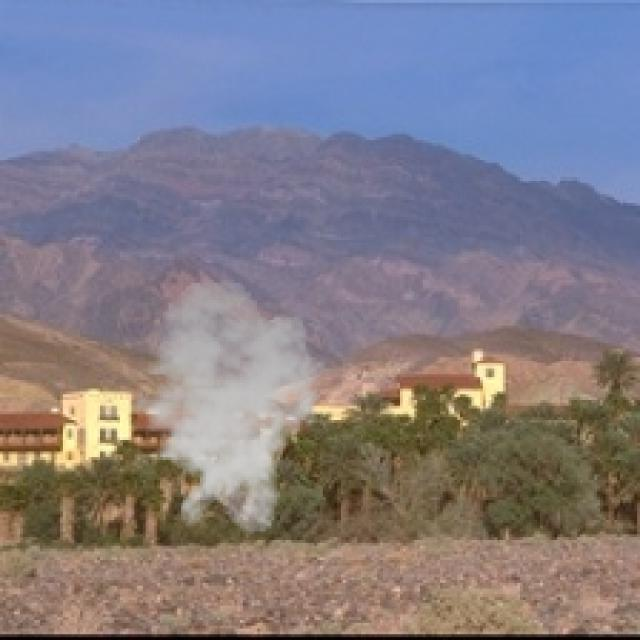Smoke: (122, 277, 332, 537)
